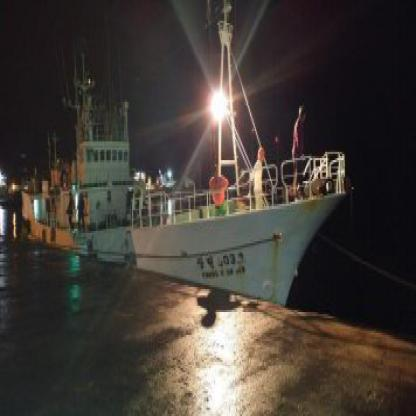fish-b: (0, 0, 358, 323)
